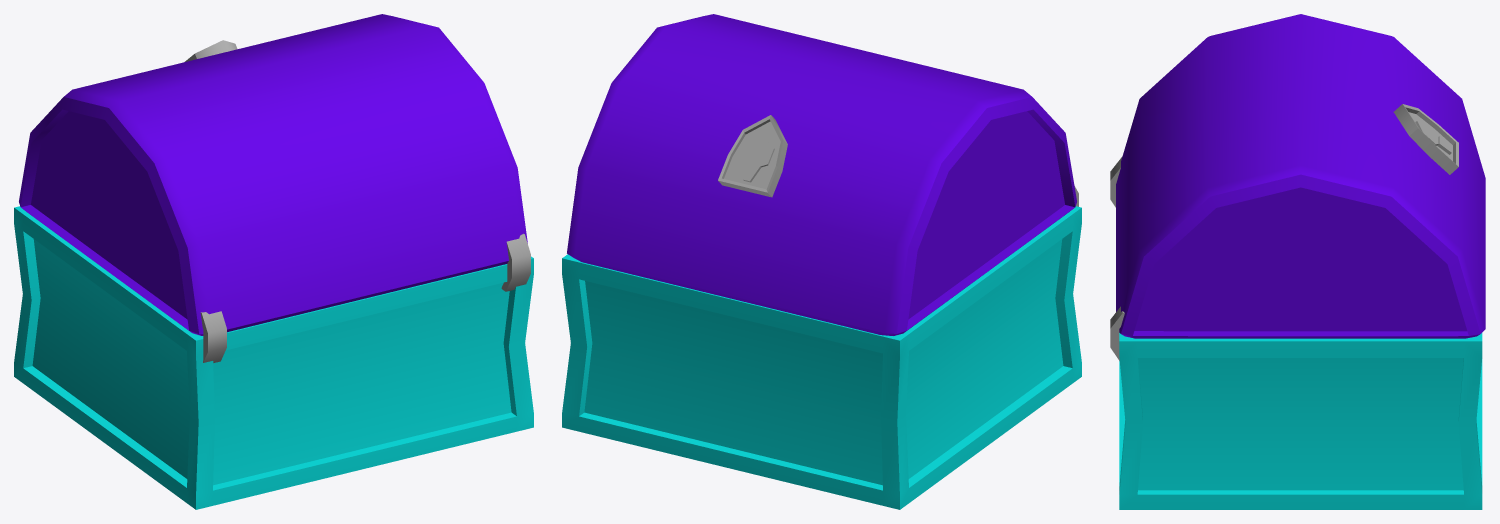
File: Chest.fbx
The picture shows the model from 3 angles, left to right: view 1: azimuth 30°, elevation 25°; view 2: azimuth 150°, elevation 25°; view 3: azimuth 270°, elevation 25°; orthographic projection.
Parts seen in each view (by area): view 1: Lid, chest, back; view 2: Lid, chest, lock; view 3: Lid, chest, lock, back.
Part boxes in pixels (<box>): Lid: <box>19,14,527,335</box>; chest: <box>14,206,533,509</box>; back: <box>200,233,530,362</box>; Lid: <box>567,14,1076,335</box>; chest: <box>562,206,1081,509</box>; lock: <box>718,115,787,197</box>; Lid: <box>1116,14,1485,338</box>; chest: <box>1119,333,1482,509</box>; lock: <box>1393,104,1458,174</box>; back: <box>1110,157,1124,360</box>.
Bounding box in the file's own units: 3.03 × 2.9 × 2.92.
